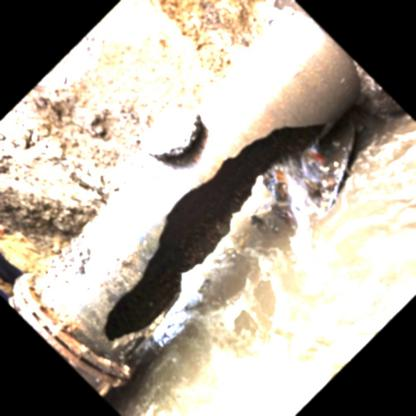burst: (107, 119, 331, 343)
